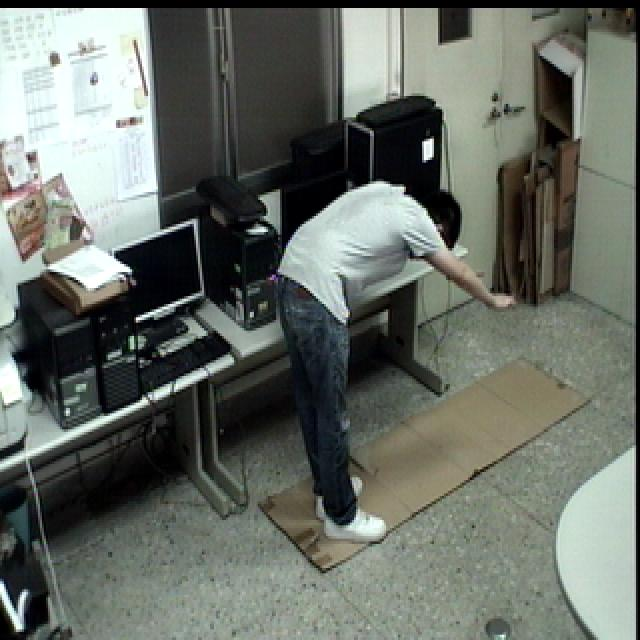bend: (277, 183, 526, 550)
